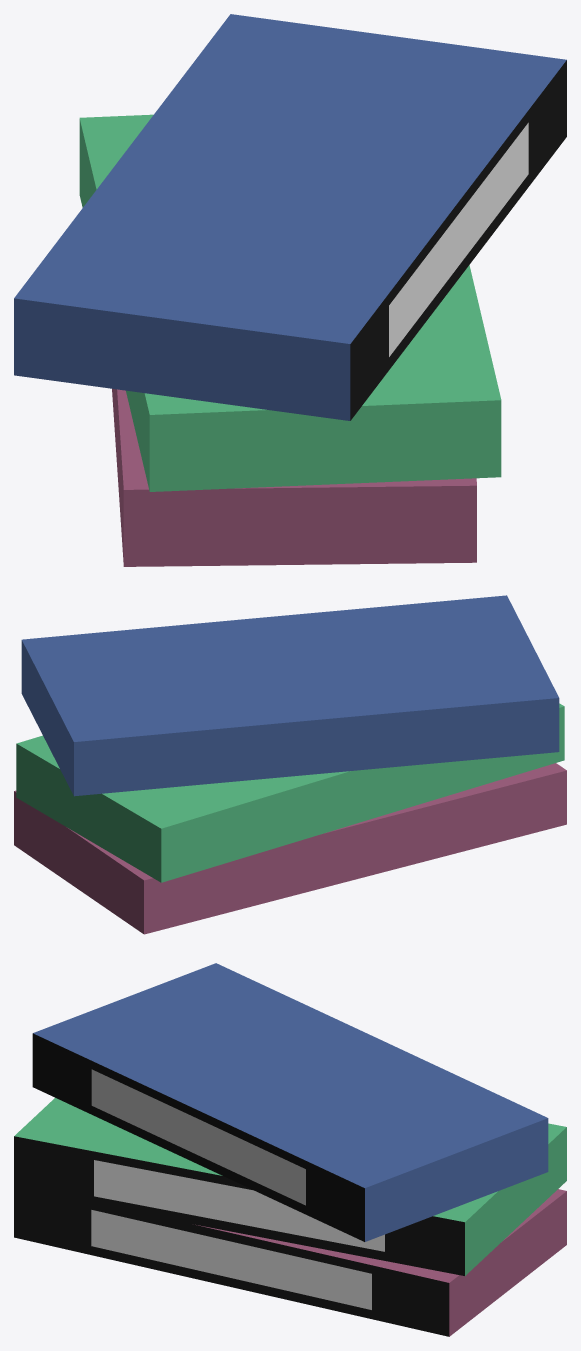
The model's file is pILA DE VHS 01.fbx.
3 views of the same model, one above another, from view 1: azimuth 30°, elevation 25°; view 2: azimuth 150°, elevation 25°; view 3: azimuth 270°, elevation 25° (orthographic). The views are drawn at different scales.
Parts seen in each view (by area): view 1: Vhs CON caja.004; view 2: Vhs CON caja.004; view 3: Vhs CON caja.004.
Part boxes in pixels (x1,y1,x2,y2): Vhs CON caja.004: (14, 14, 566, 566); Vhs CON caja.004: (14, 595, 566, 934); Vhs CON caja.004: (14, 963, 566, 1336).
Bounding box in the file's own units: 0.2154 × 0.0739 × 0.2235.
